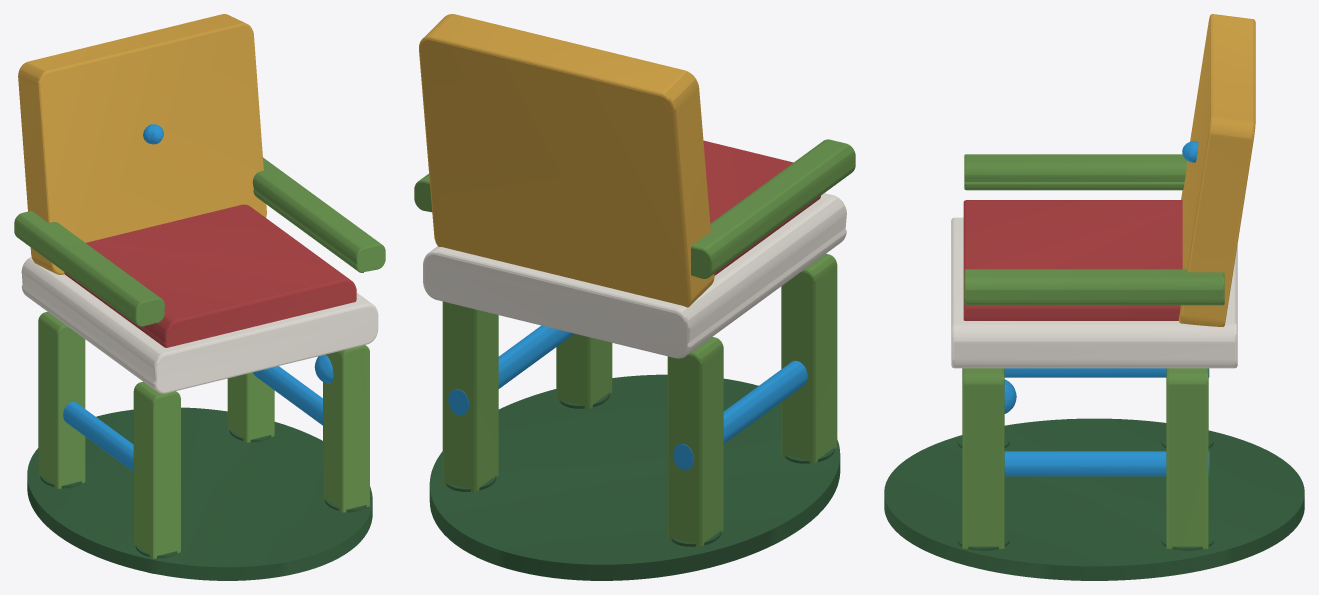
File: 1356_城市运转图鉴_监控摄像头.glb
The picture shows the model from 3 angles, left to right: view 1: azimuth 30°, elevation 25°; view 2: azimuth 150°, elevation 25°; view 3: azimuth 270°, elevation 25°; orthographic projection. The views are drawn at different scales.
Parts seen in each view (by area): view 1: card_1356; view 2: card_1356; view 3: card_1356.
Boxes of the visible parts, x1=… form: card_1356: x1=14, y1=14, x2=385, y2=580; card_1356: x1=414, y1=14, x2=855, y2=580; card_1356: x1=884, y1=14, x2=1304, y2=580.
Bounding box in the file's own units: 0.7143 × 1 × 0.8586.
